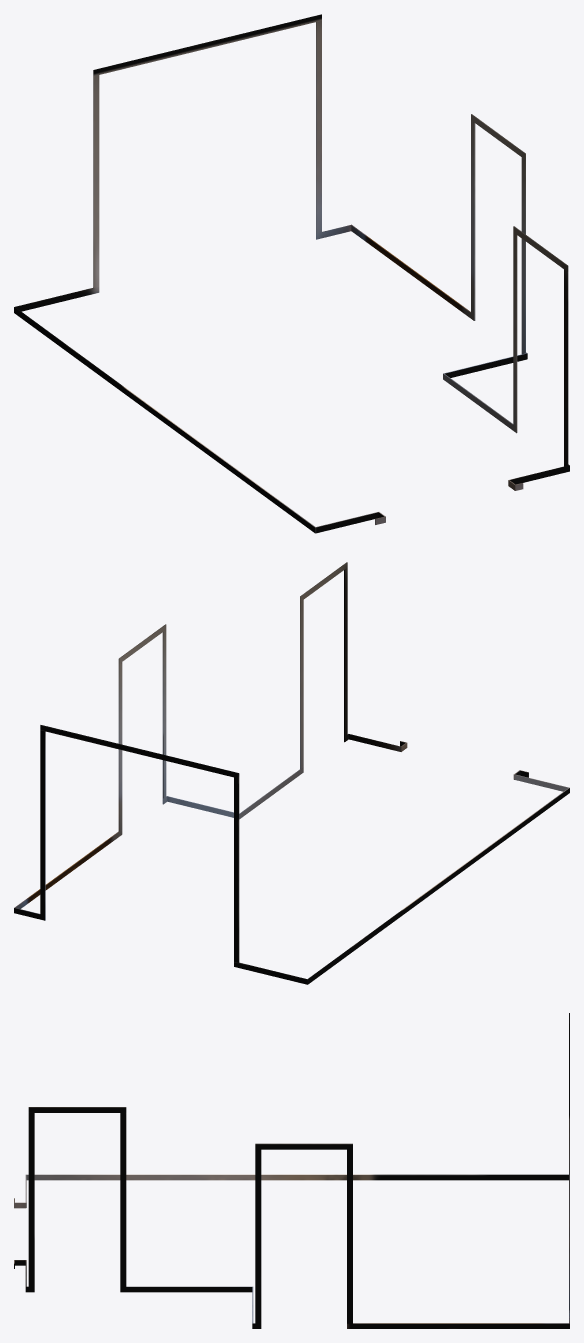
3 views of the same model, one above another, from view 1: azimuth 30°, elevation 25°; view 2: azimuth 150°, elevation 25°; view 3: azimuth 270°, elevation 25° (orthographic). The views are drawn at different scales.
Parts seen in each view (by area): view 1: Plane.004; view 2: Plane.004; view 3: Plane.004.
Boxes of the visible parts, x1,y1,x2,y2 form: Plane.004: [14, 14, 569, 533]; Plane.004: [14, 562, 569, 984]; Plane.004: [14, 1013, 569, 1328].
Size of the model in its own units: 3.74 by 2.36 by 5.9.
1 material, 1 textured.
